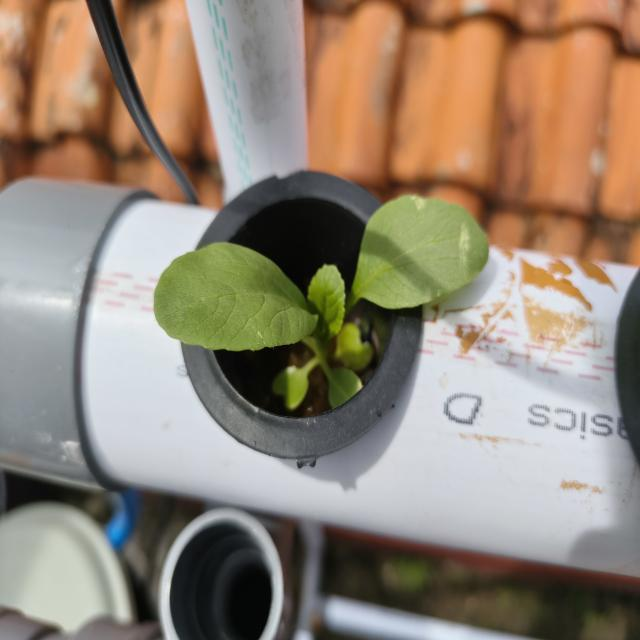daun-pakcoy: (154, 242, 317, 351), (345, 197, 489, 313), (307, 264, 345, 343), (272, 359, 317, 410), (319, 358, 362, 408), (334, 322, 374, 371)
